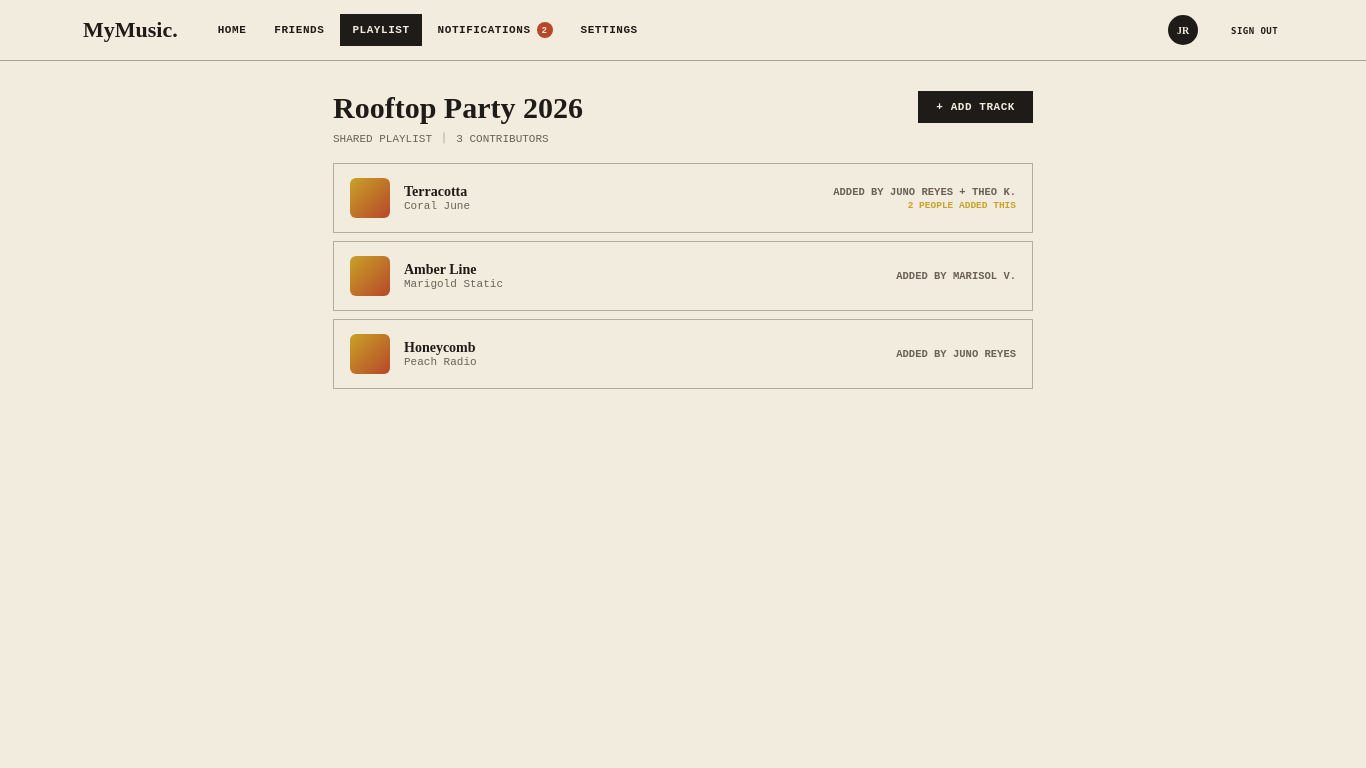
Test: dialogs › names itself, takes focus, and returns it on close
Click the button "+ ADD TRACK" at (976, 107), box [918,91,1033,123]
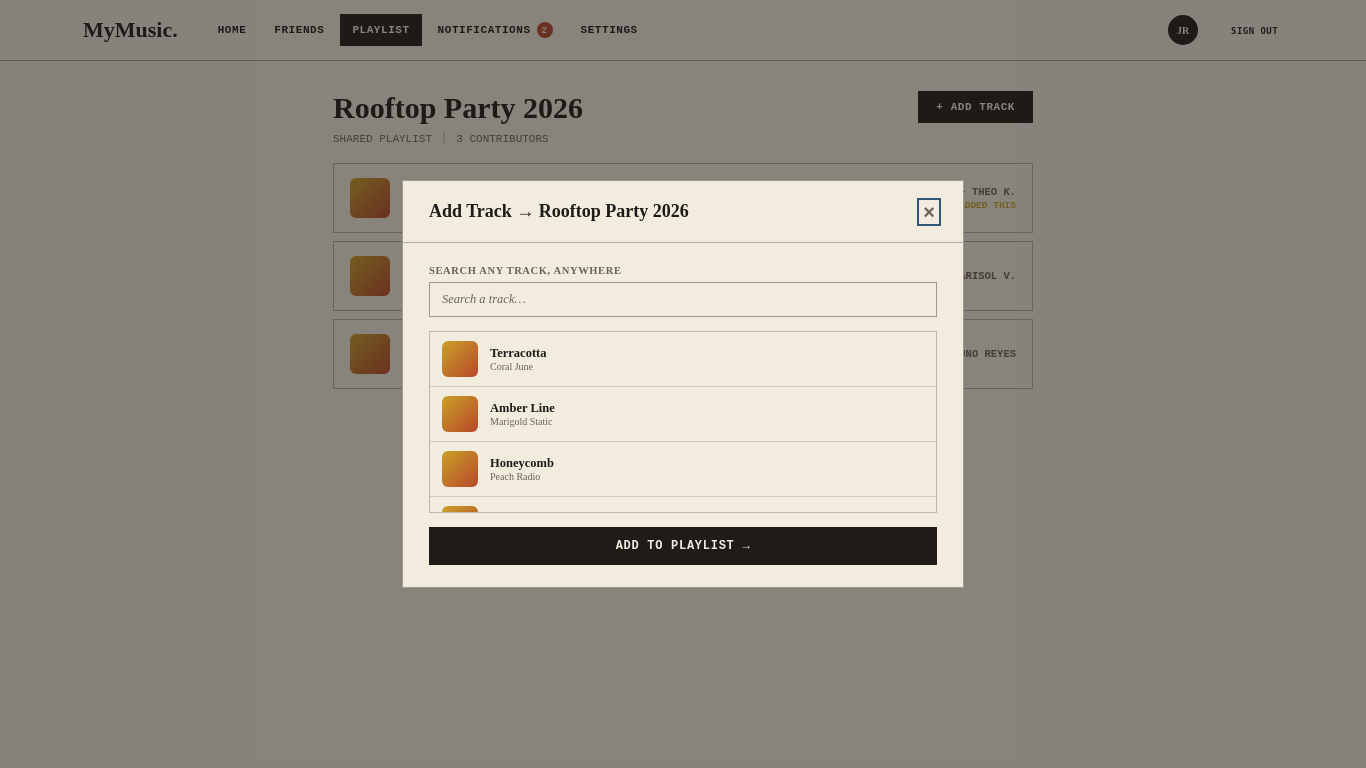
Press Escape
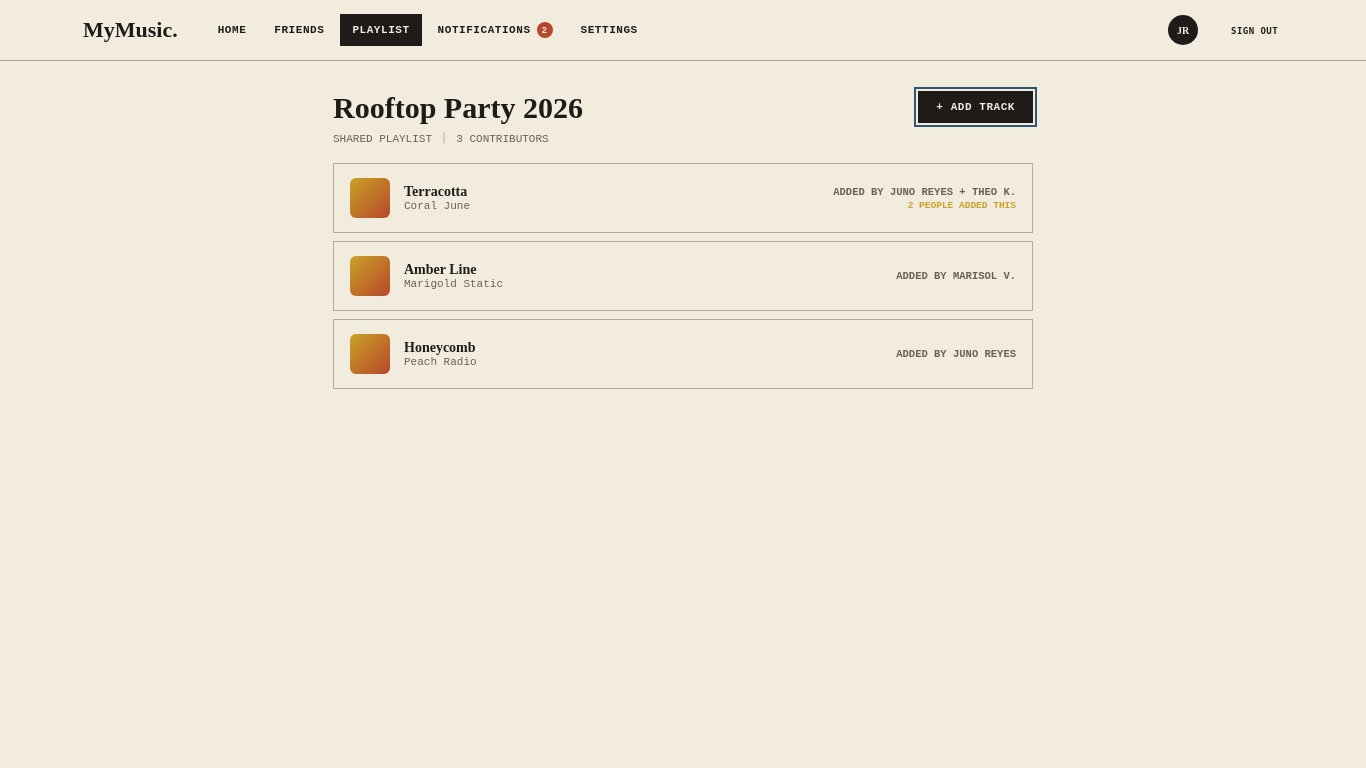
Expected: the dialog is gone
